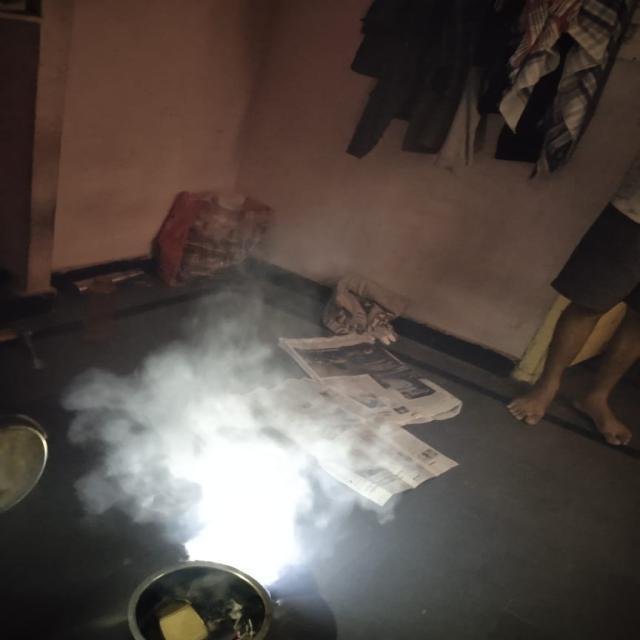fire: (90, 294, 382, 556)
